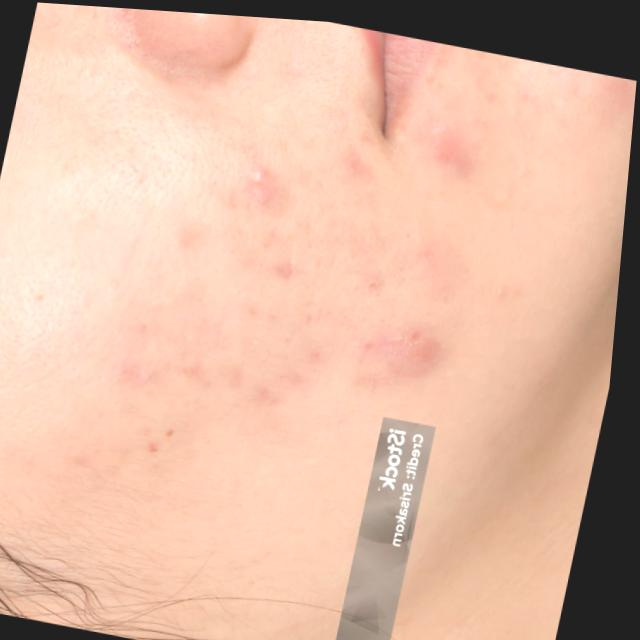papule: (109, 347, 261, 409), (365, 314, 450, 376), (415, 103, 487, 166), (240, 149, 288, 214), (171, 211, 217, 259), (335, 141, 380, 184), (256, 368, 294, 408), (263, 251, 300, 288), (307, 334, 339, 364), (285, 355, 319, 383)
